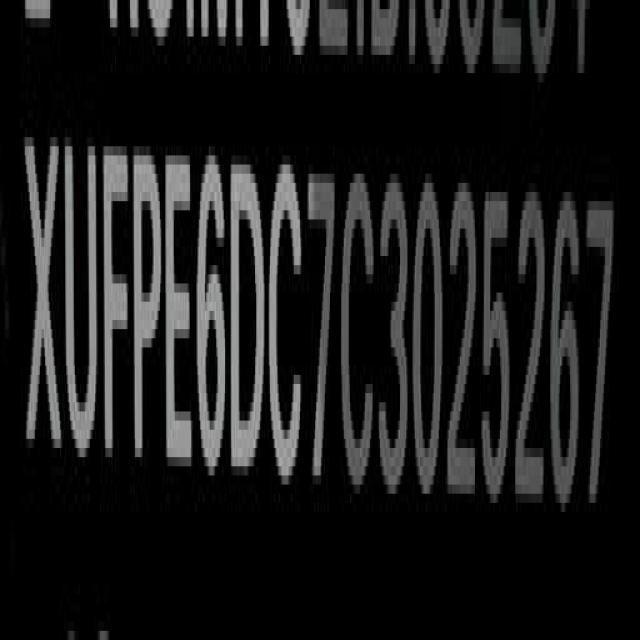0: (414, 175, 444, 503)
2: (516, 188, 548, 514), (449, 177, 480, 508)
3: (380, 172, 412, 500)
5: (482, 176, 512, 510)
6: (198, 143, 228, 487), (550, 186, 580, 512)
7: (586, 184, 615, 518), (308, 153, 335, 500)
C: (340, 159, 375, 484), (269, 160, 302, 490)
D: (231, 150, 263, 488)
E: (166, 135, 194, 488)
F: (100, 132, 130, 477)
P: (131, 139, 163, 484)
U: (63, 135, 99, 471)
X: (25, 122, 61, 468)
